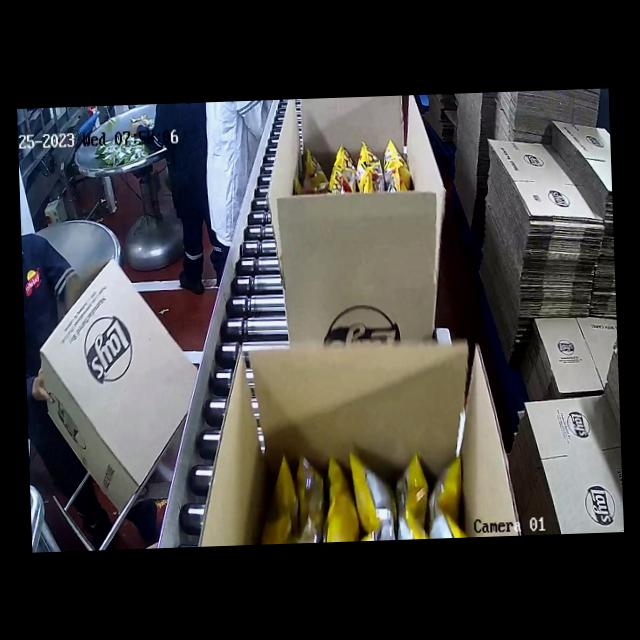salted: (274, 439, 461, 544), (308, 124, 422, 190)
